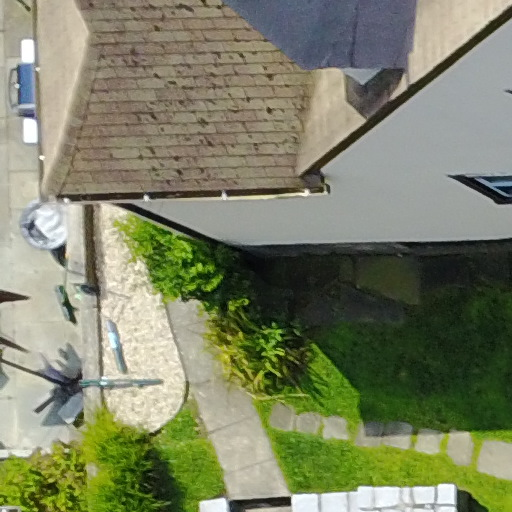container: (10, 190, 82, 257)
